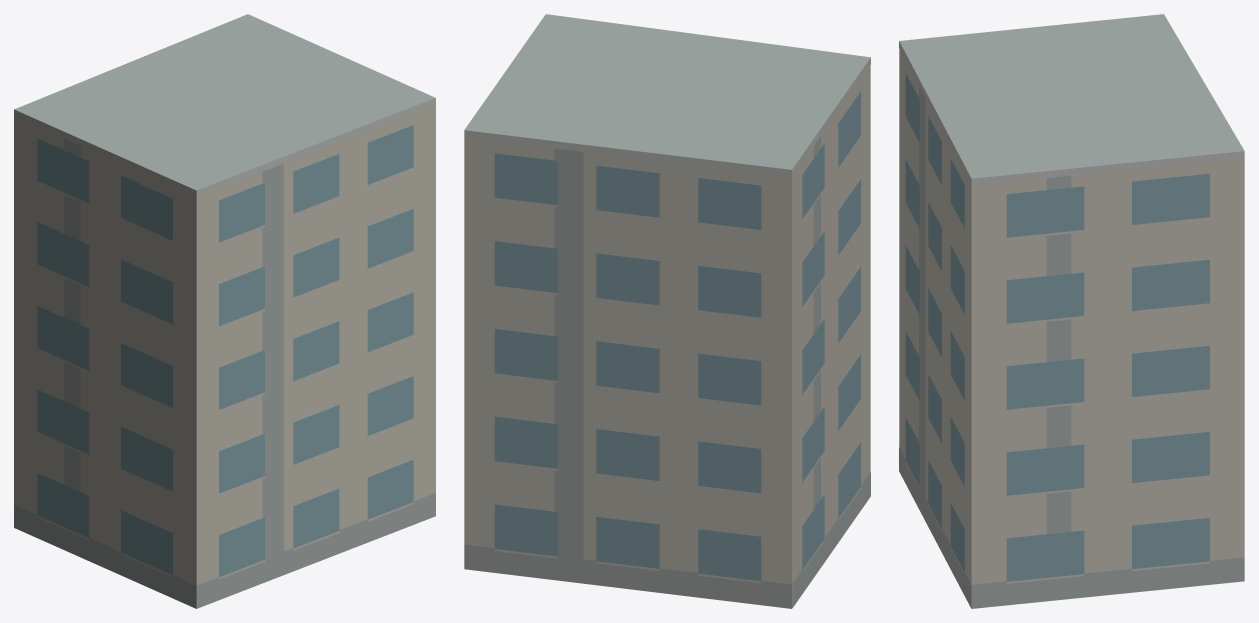
The model's file is survey-upis-32932835.glb.
3 views of the same model, side by side, from view 1: azimuth 30°, elevation 25°; view 2: azimuth 150°, elevation 25°; view 3: azimuth 270°, elevation 25° (orthographic). The views are drawn at different scales.
Visible parts, largest first — view 1: survey-upis-32932835.tmp; view 2: survey-upis-32932835.tmp; view 3: survey-upis-32932835.tmp.
Part boxes in pixels (box(x1,y1,x2,y2)): survey-upis-32932835.tmp: box(14, 14, 435, 608); survey-upis-32932835.tmp: box(464, 14, 870, 608); survey-upis-32932835.tmp: box(899, 14, 1244, 608).
Bounding box in the file's own units: 12 × 14.6 × 10.64.
